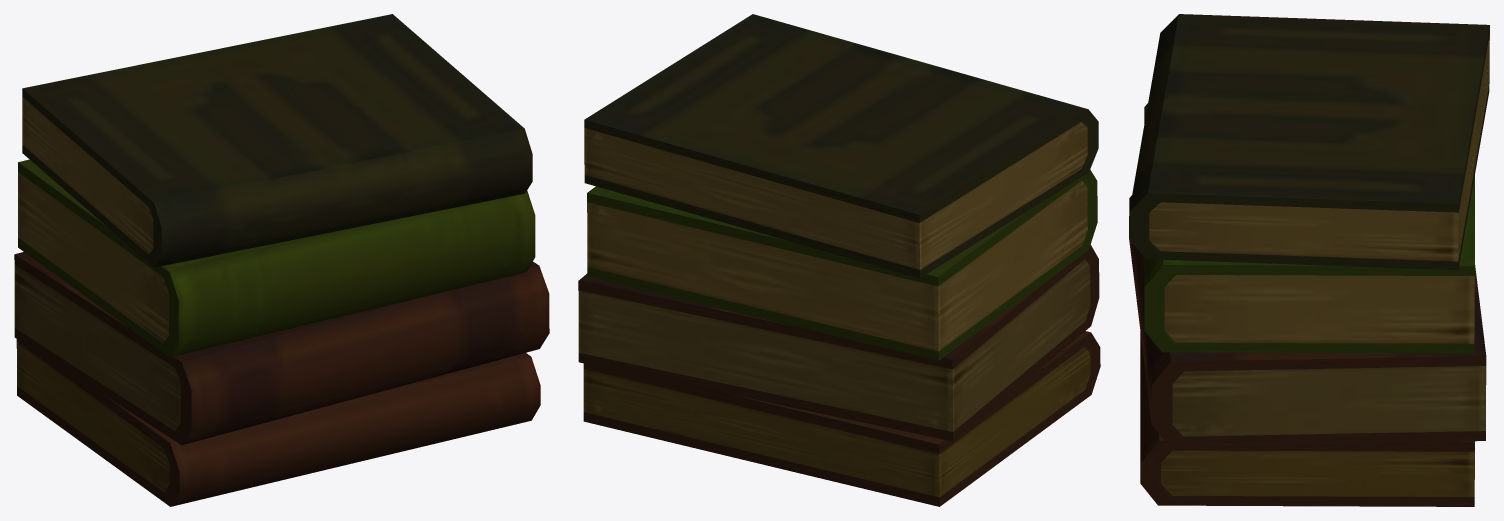
The model's file is bokstapel.glb.
The picture shows the model from 3 angles, left to right: view 1: azimuth 30°, elevation 25°; view 2: azimuth 150°, elevation 25°; view 3: azimuth 270°, elevation 25°; orthographic projection. The views are drawn at different scales.
Parts seen in each view (by area): view 1: Book_Stack_1; view 2: Book_Stack_1; view 3: Book_Stack_1.
Part boxes in pixels (<box>): Book_Stack_1: <box>14,14,549,506</box>; Book_Stack_1: <box>578,14,1100,506</box>; Book_Stack_1: <box>1129,14,1489,506</box>.
Size of the model in its own units: 0.2849 by 0.2137 by 0.2263.
1 material, 1 textured.
